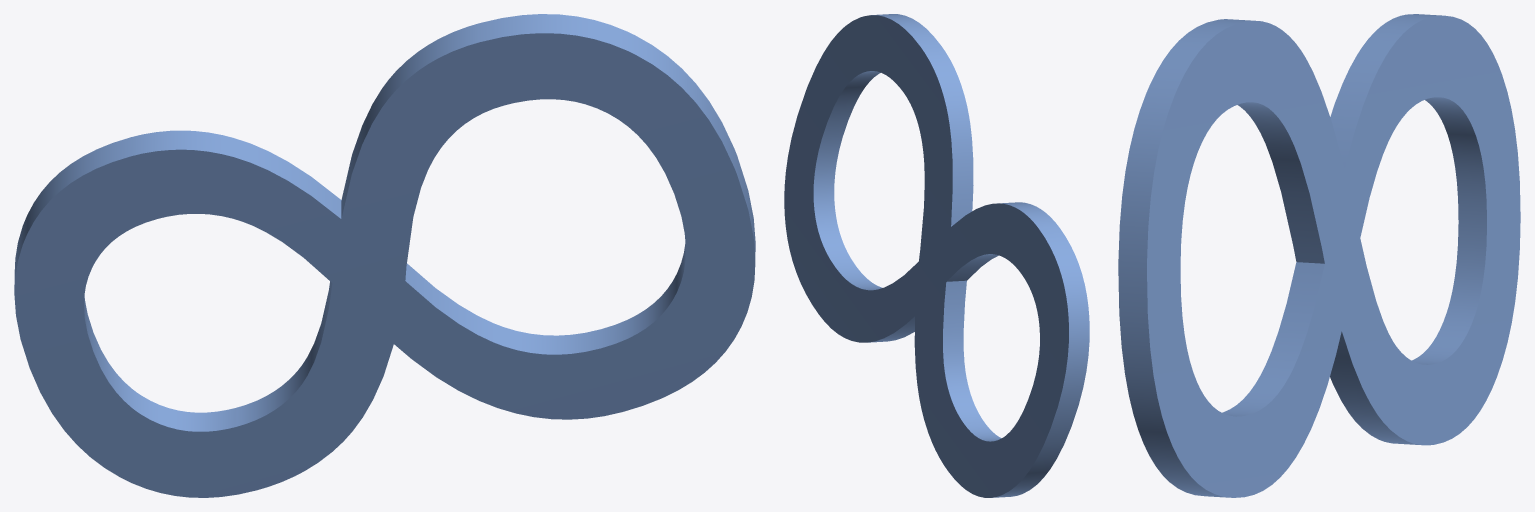
File: New_Number_8.gltf
The picture shows the model from 3 angles, left to right: view 1: azimuth 30°, elevation 25°; view 2: azimuth 150°, elevation 25°; view 3: azimuth 270°, elevation 25°; orthographic projection. The views are drawn at different scales.
Parts seen in each view (by area): view 1: Part 53; view 2: Part 53; view 3: Part 53.
Boxes of the visible parts, bbox=[...] form: Part 53: bbox=[14, 14, 755, 497]; Part 53: bbox=[784, 14, 1089, 497]; Part 53: bbox=[1118, 14, 1520, 497].
Bounding box in the file's own units: 0.00509 × 0.00426 × 0.00305.
